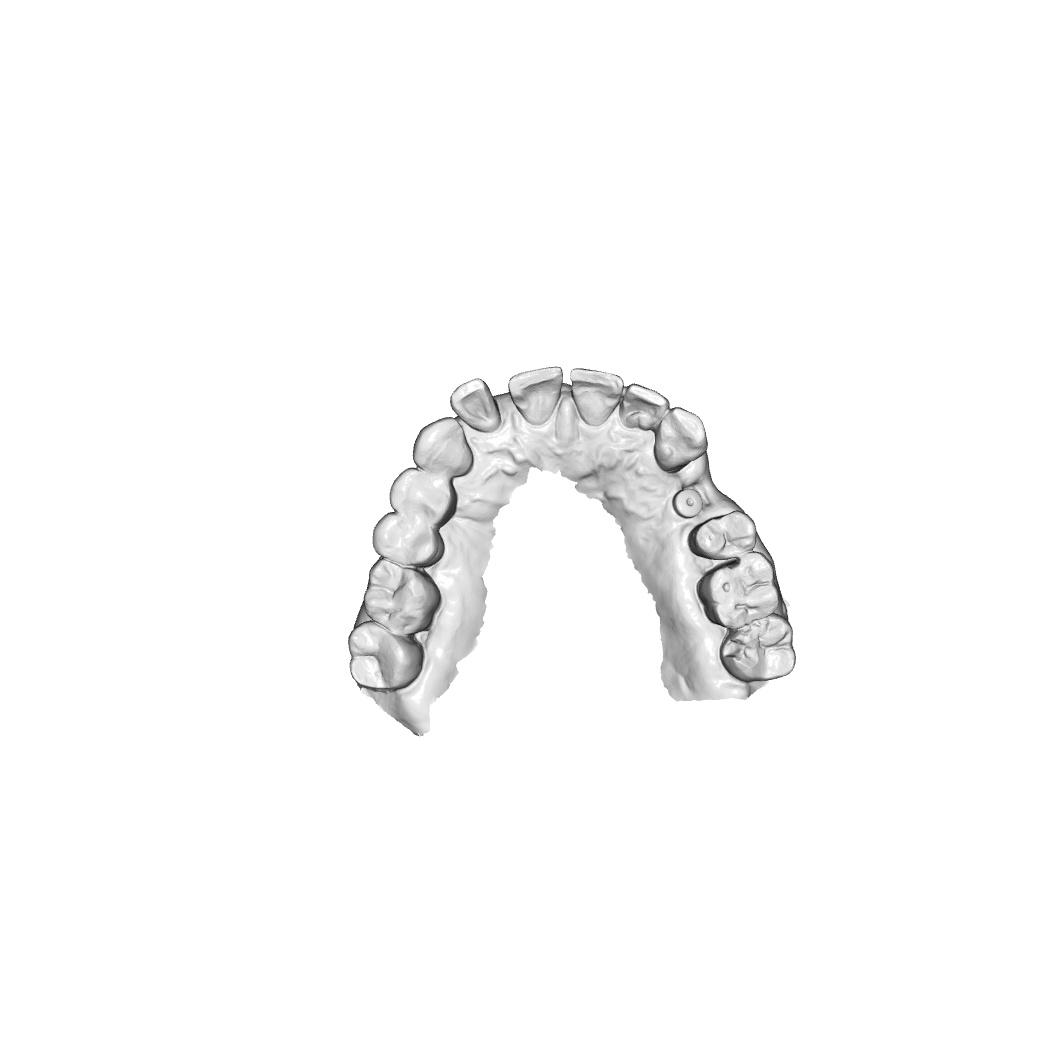canine: (653, 404, 709, 474), (411, 416, 474, 478)
implant: (671, 488, 704, 520)
incisor: (506, 365, 564, 427), (569, 367, 624, 427), (448, 376, 501, 434), (618, 383, 670, 432)
molar: (696, 550, 780, 630), (362, 557, 441, 636), (347, 619, 425, 693), (719, 613, 796, 683)
premolar: (372, 510, 446, 568), (389, 467, 458, 528), (687, 509, 757, 561)
